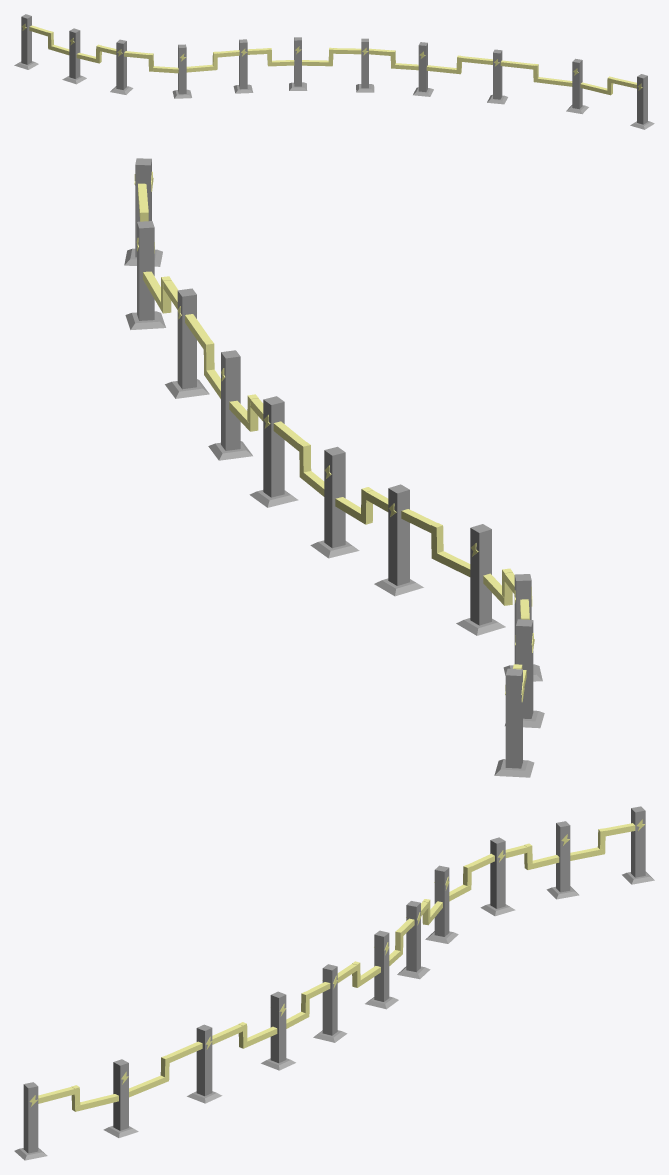
The model's file is CharlesFence_Mid.fbx.
The picture shows the model from 3 angles, top to bottom: view 1: azimuth 30°, elevation 25°; view 2: azimuth 150°, elevation 25°; view 3: azimuth 270°, elevation 25°; orthographic projection. The views are drawn at different scales.
Parts seen in each view (by area): view 1: CharlesFence_Mid; view 2: CharlesFence_Mid; view 3: CharlesFence_Mid.
Part boxes in pixels (bbox=[...]): CharlesFence_Mid: bbox=[14, 14, 654, 129]; CharlesFence_Mid: bbox=[124, 158, 544, 777]; CharlesFence_Mid: bbox=[14, 806, 654, 1160].
Bounding box in the file's own units: 2699 × 296 × 2521.
